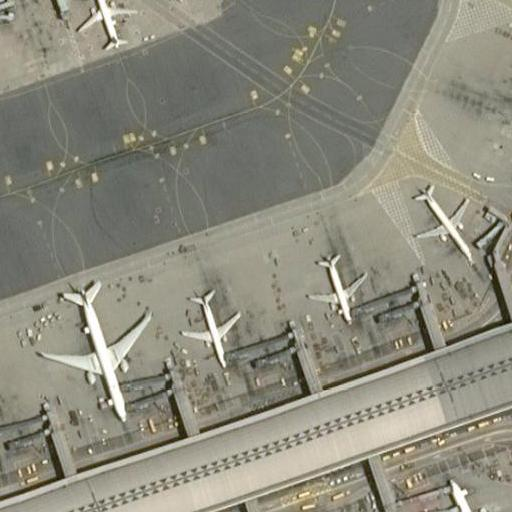Aircraft: (22, 267, 151, 420), (35, 277, 153, 421), (404, 175, 486, 266), (174, 284, 249, 366), (408, 179, 479, 264), (297, 245, 373, 322), (179, 286, 242, 368), (418, 462, 512, 512), (305, 248, 368, 322), (65, 0, 139, 50), (71, 0, 137, 52), (424, 474, 512, 512), (0, 351, 5, 448), (166, 0, 235, 3), (157, 0, 240, 2)
